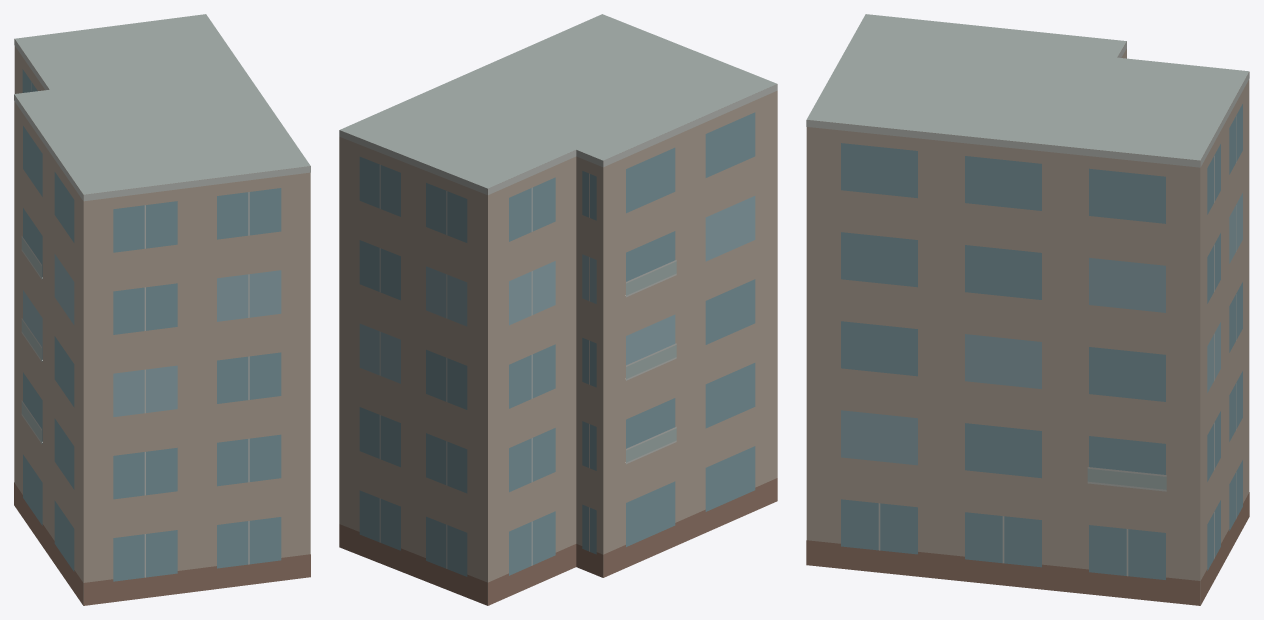
The model's file is survey-upis-32580633.glb.
The picture shows the model from 3 angles, left to right: view 1: azimuth 30°, elevation 25°; view 2: azimuth 150°, elevation 25°; view 3: azimuth 270°, elevation 25°; orthographic projection. The views are drawn at different scales.
Visible parts, largest first — view 1: survey-upis-32580633.tmp; view 2: survey-upis-32580633.tmp; view 3: survey-upis-32580633.tmp.
Boxes of the visible parts, bbox=[...] form: survey-upis-32580633.tmp: bbox=[14, 14, 310, 605]; survey-upis-32580633.tmp: bbox=[339, 14, 777, 605]; survey-upis-32580633.tmp: bbox=[806, 14, 1249, 605].
Bounding box in the file's own units: 10.77 × 15.25 × 13.76.
